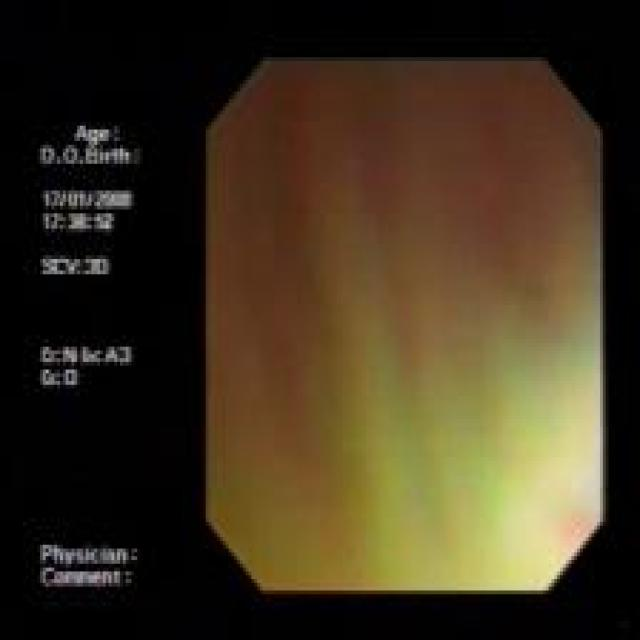color misalignment: (205, 57, 602, 590), (38, 114, 147, 594)
